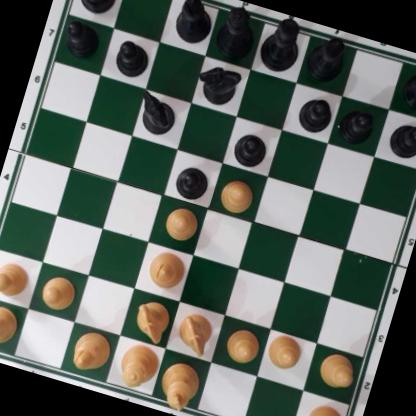black-bishop: (302, 29, 352, 86), (171, 0, 219, 46)
black-king: (257, 11, 309, 79)
black-knight: (195, 59, 242, 108), (133, 90, 181, 137)
black-pawn: (60, 17, 103, 62), (111, 35, 153, 80), (230, 128, 272, 171), (337, 103, 377, 146), (295, 94, 335, 136), (173, 162, 213, 202), (385, 117, 416, 163)
black-queen: (212, 2, 263, 62)
black-rook: (66, 0, 126, 19), (398, 59, 416, 116)
white-bishop: (68, 326, 113, 376), (145, 247, 189, 292)
white-king: (156, 355, 204, 413)
white-knight: (130, 299, 174, 345), (174, 310, 217, 356)
white-pawn: (314, 349, 359, 392), (221, 324, 263, 367), (264, 330, 305, 373), (38, 272, 80, 313), (216, 175, 258, 215), (162, 202, 202, 243), (0, 256, 34, 300)
white-queen: (114, 338, 162, 396)
white-rook: (0, 298, 23, 352), (300, 400, 355, 416)
